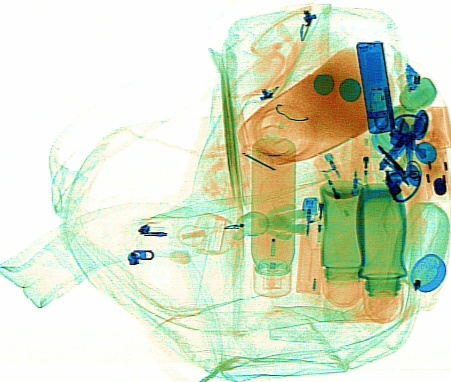lighter: (311, 147, 360, 220), (347, 124, 371, 195)
pressure: (249, 134, 297, 298)
